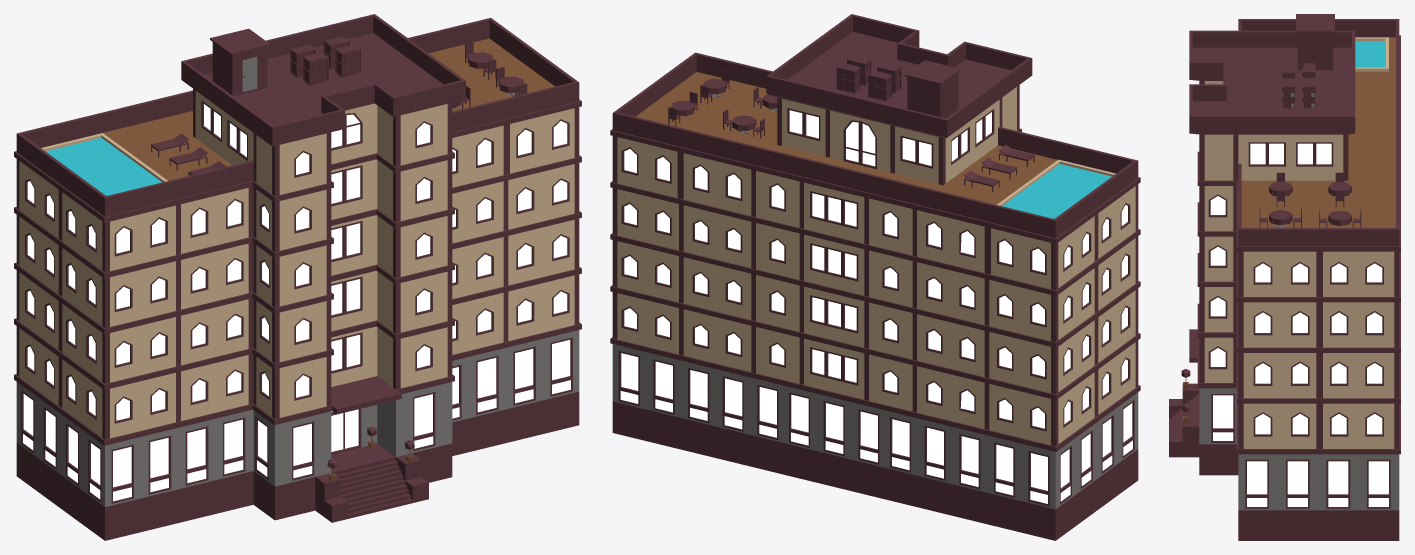
File: buildings-building-hotel.glb
The picture shows the model from 3 angles, left to right: view 1: azimuth 30°, elevation 25°; view 2: azimuth 150°, elevation 25°; view 3: azimuth 270°, elevation 25°; orthographic projection. The views are drawn at different scales.
Visible parts, largest first — view 1: building-hotel; view 2: building-hotel; view 3: building-hotel.
Part boxes in pixels (left/top/right/bottom): building-hotel: left=14, top=14, right=581, bottom=540; building-hotel: left=610, top=14, right=1140, bottom=540; building-hotel: left=1169, top=14, right=1400, bottom=540.
Size of the model in its own units: 29.6 by 25.2 by 13.7.
